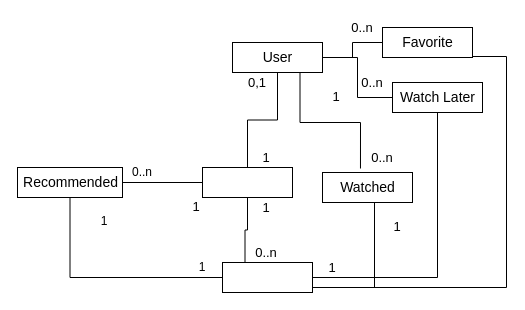
The diagram is 525 pixels wide and 310 high, and some of its shapes have lost their labels. Each missing label, with the centre of its shape:
"Film" belongs at point (267, 277).
"Watchr" belongs at point (247, 182).
